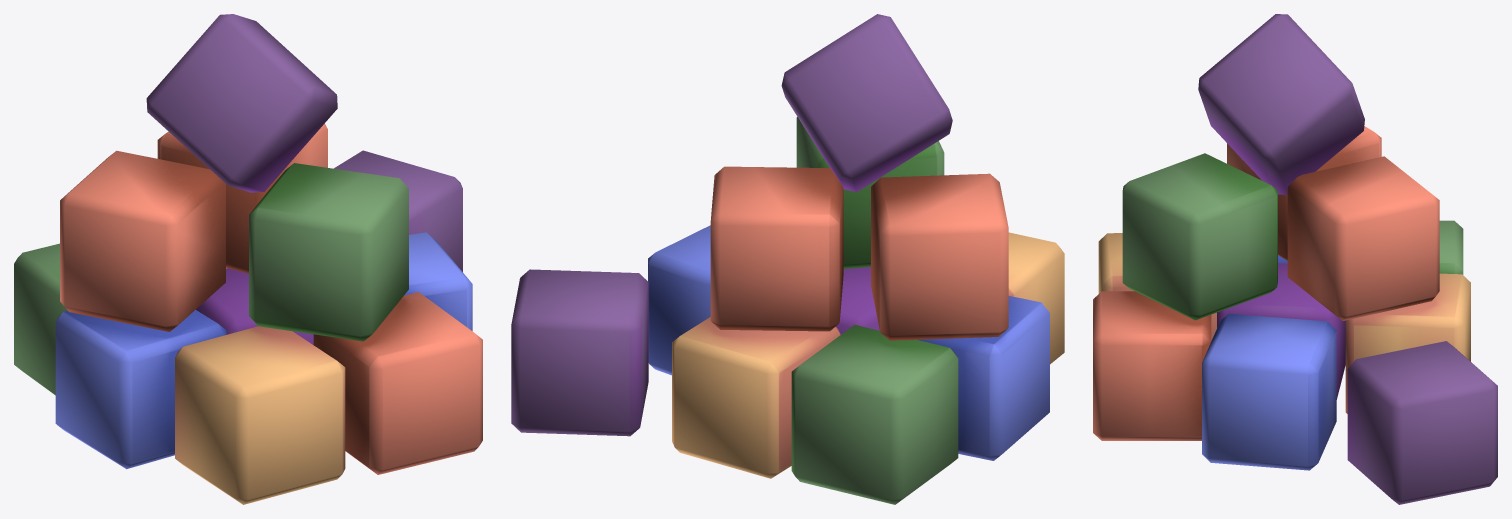
The model's file is blocks.fbx.
3 views of the same model, side by side, from view 1: azimuth 30°, elevation 25°; view 2: azimuth 150°, elevation 25°; view 3: azimuth 270°, elevation 25° (orthographic). The views are drawn at different scales.
Visible parts, largest first — view 1: Cube.003, Cube.010, Cube.008, Cube.009, Cube.002, Cube.001, Cube.006, Cube.011, Cube.007, Cube.004, Cube; view 2: Cube.006, Cube.011, Cube.010, Cube.007, Cube.009, Cube.005, Cube.001, Cube.004, Cube.003, Cube.008, Cube; view 3: Cube.008, Cube.007, Cube.011, Cube.004, Cube.009, Cube.002, Cube.005, Cube, Cube.010, Cube.003, Cube.006.
Part boxes in pixels (x1=…): Cube.003: x1=175, y1=326, x2=345, y2=504; Cube.010: x1=60, y1=150, x2=225, y2=331; Cube.008: x1=249, y1=163, x2=408, y2=341; Cube.009: x1=146, y1=14, x2=337, y2=192; Cube.002: x1=313, y1=292, x2=482, y2=474; Cube.001: x1=55, y1=309, x2=226, y2=469; Cube.006: x1=14, y1=243, x2=67, y2=395; Cube.011: x1=334, y1=150, x2=462, y2=271; Cube.007: x1=157, y1=123, x2=327, y2=273; Cube.004: x1=404, y1=232, x2=472, y2=330; Cube: x1=196, y1=268, x2=313, y2=344; Cube.006: x1=791, y1=325, x2=958, y2=504; Cube.011: x1=511, y1=269, x2=648, y2=436; Cube.010: x1=871, y1=173, x2=1008, y2=340; Cube.007: x1=710, y1=166, x2=843, y2=331; Cube.009: x1=781, y1=14, x2=952, y2=192; Cube.005: x1=672, y1=317, x2=840, y2=478; Cube.001: x1=917, y1=296, x2=1049, y2=460; Cube.004: x1=648, y1=225, x2=710, y2=375; Cube.003: x1=1008, y1=232, x2=1064, y2=364; Cube.008: x1=796, y1=117, x2=944, y2=268; Cube: x1=836, y1=267, x2=879, y2=334; Cube.008: x1=1122, y1=153, x2=1277, y2=320; Cube.007: x1=1287, y1=156, x2=1439, y2=320; Cube.011: x1=1347, y1=341, x2=1497, y2=504; Cube.004: x1=1202, y1=313, x2=1336, y2=470; Cube.009: x1=1198, y1=14, x2=1364, y2=194; Cube.002: x1=1093, y1=291, x2=1211, y2=440; Cube.005: x1=1345, y1=273, x2=1470, y2=413; Cube: x1=1217, y1=263, x2=1345, y2=399; Cube.010: x1=1227, y1=126, x2=1381, y2=260; Cube.003: x1=1098, y1=233, x2=1216, y2=340; Cube.006: x1=1439, y1=220, x2=1463, y2=274.
Bounding box in the file's own units: 788 × 674 × 684.
5 materials, 5 textured.
